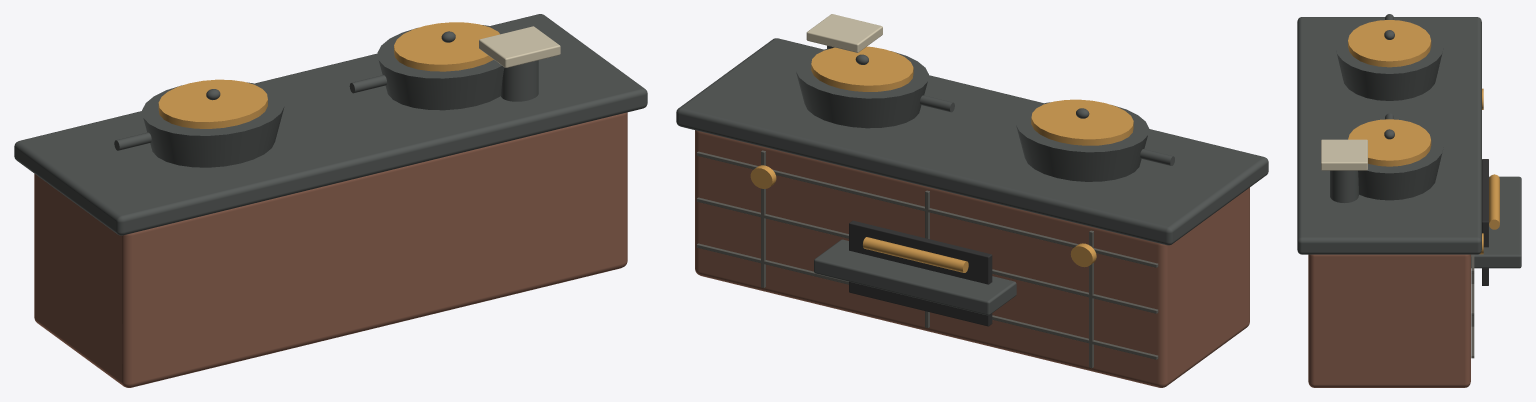
File: detail_kitchen_stove.glb
3 renders of one model, left to right at view 1: azimuth 30°, elevation 25°; view 2: azimuth 150°, elevation 25°; view 3: azimuth 270°, elevation 25°, orthographic. The views are drawn at different scales.
Parts seen in each view (by area): view 1: brick, metal, stone, wood; view 2: brick, metal, stone, wood; view 3: metal, brick, stone, wood.
Boxes of the visible parts, bbox=[...] form: brick: bbox=[34, 26, 627, 387]; metal: bbox=[14, 14, 647, 235]; stone: bbox=[142, 25, 507, 167]; wood: bbox=[114, 22, 499, 150]; brick: bbox=[695, 14, 1249, 387]; metal: bbox=[676, 38, 1268, 315]; stone: bbox=[761, 48, 1149, 368]; wood: bbox=[750, 46, 1174, 267]; metal: bbox=[1297, 17, 1521, 268]; brick: bbox=[1308, 139, 1499, 387]; stone: bbox=[1335, 20, 1474, 326]; wood: bbox=[1348, 14, 1483, 254].
Size of the model in its own units: 2.6 by 1.1 by 1.1.
